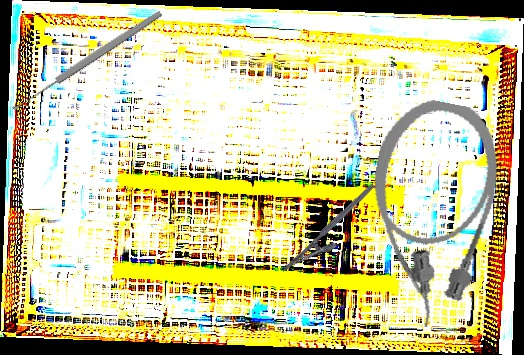Cannula: (348, 92, 510, 335)
Needle Holder: (279, 182, 388, 286)
Surgical Spoon: (10, 8, 164, 114)
